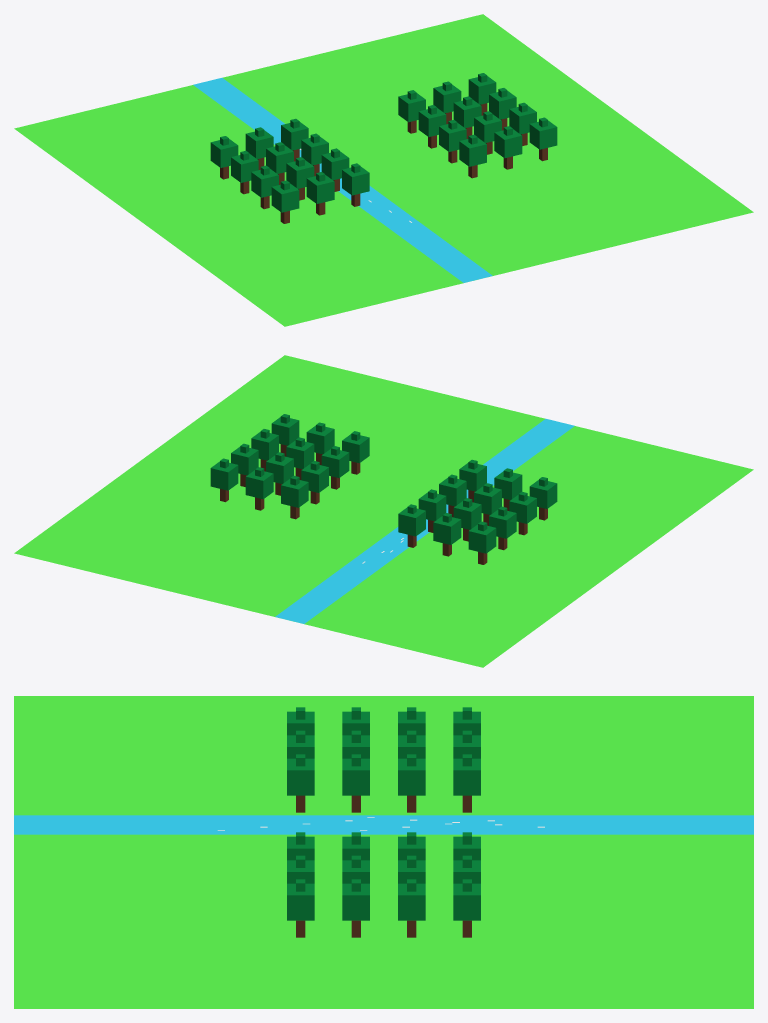
Rendered from stage.obj.
3 renders of one model, top to bottom at view 1: azimuth 30°, elevation 25°; view 2: azimuth 150°, elevation 25°; view 3: azimuth 270°, elevation 25°, orthographic. The views are drawn at different scales.
Parts seen in each view (by area): view 1: 平面.1, ヌル.1, 平面; view 2: 平面.1, ヌル.1, 平面; view 3: 平面.1, ヌル.1, 平面.
Boxes of the visible parts, x1=… form: 平面.1: x1=14, y1=14, x2=753, y2=326; ヌル.1: x1=210, y1=73, x2=557, y2=223; 平面: x1=193, y1=78, x2=492, y2=282; 平面.1: x1=14, y1=355, x2=753, y2=667; ヌル.1: x1=210, y1=414, x2=557, y2=564; 平面: x1=275, y1=419, x2=574, y2=623; 平面.1: x1=14, y1=696, x2=753, y2=1008; ヌル.1: x1=217, y1=707, x2=544, y2=937; 平面: x1=14, y1=815, x2=753, y2=834.
Size of the model in its own units: 4000 by 342 by 4000.
